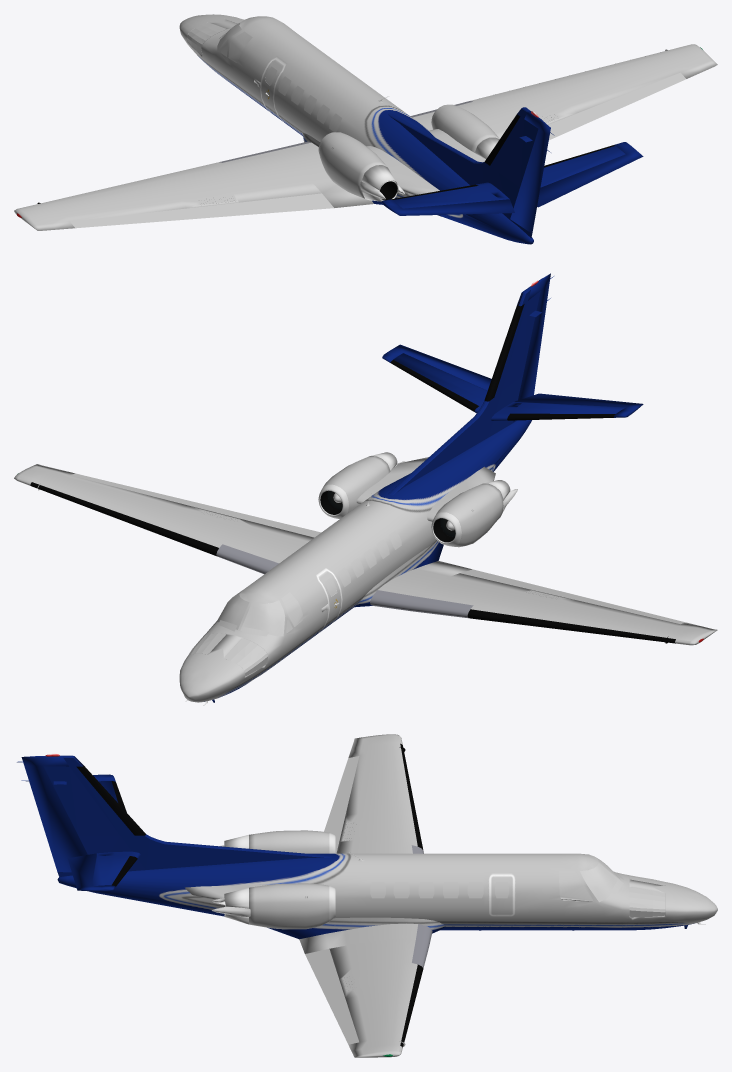
Rendered from citation.glb.
The picture shows the model from 3 angles, top to bottom: view 1: azimuth 30°, elevation 25°; view 2: azimuth 150°, elevation 25°; view 3: azimuth 270°, elevation 25°; orthographic projection. The views are drawn at different scales.
Parts seen in each view (by area): view 1: Rudder_mesh-mesh, Glass_inside_mesh-mesh, RH_uSpdBrk_rod_mesh-mesh; view 2: Rudder_mesh-mesh, Glass_inside_mesh-mesh, RHwing_heater_002_mesh-mesh, RH_uSpdBrk_rod_mesh-mesh, REngine_fanSlow_mesh-mesh; view 3: Rudder_mesh-mesh, Glass_inside_mesh-mesh, RH_uSpdBrk_rod_mesh-mesh, RHwing_heater_002_mesh-mesh.
Boxes of the visible parts, x1=… form: Rudder_mesh-mesh: x1=14, y1=14, x2=717, y2=244; Glass_inside_mesh-mesh: x1=217, y1=23, x2=341, y2=132; RH_uSpdBrk_rod_mesh-mesh: x1=265, y1=92, x2=499, y2=201; Rudder_mesh-mesh: x1=14, y1=273, x2=717, y2=702; Glass_inside_mesh-mesh: x1=217, y1=530, x2=401, y2=636; RHwing_heater_002_mesh-mesh: x1=216, y1=544, x2=473, y2=618; RH_uSpdBrk_rod_mesh-mesh: x1=186, y1=452, x2=517, y2=705; REngine_fanSlow_mesh-mesh: x1=320, y1=490, x2=455, y2=542; Rudder_mesh-mesh: x1=17, y1=734, x2=717, y2=1057; Glass_inside_mesh-mesh: x1=370, y1=857, x2=620, y2=902; RH_uSpdBrk_rod_mesh-mesh: x1=212, y1=833, x2=705, y2=924; RHwing_heater_002_mesh-mesh: x1=411, y1=845, x2=432, y2=968.
Size of the model in its own units: 15.62 by 4.06 by 14.48.
Materials: 7 (5 with a texture image).
